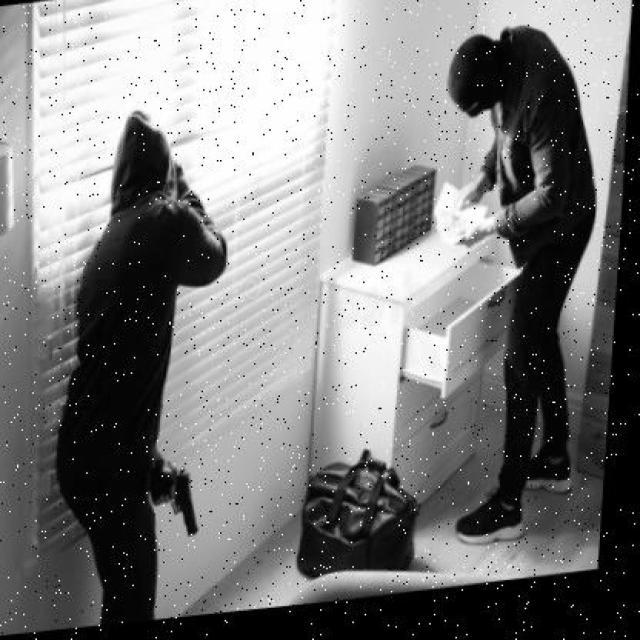weapon: (151, 465, 198, 541)
